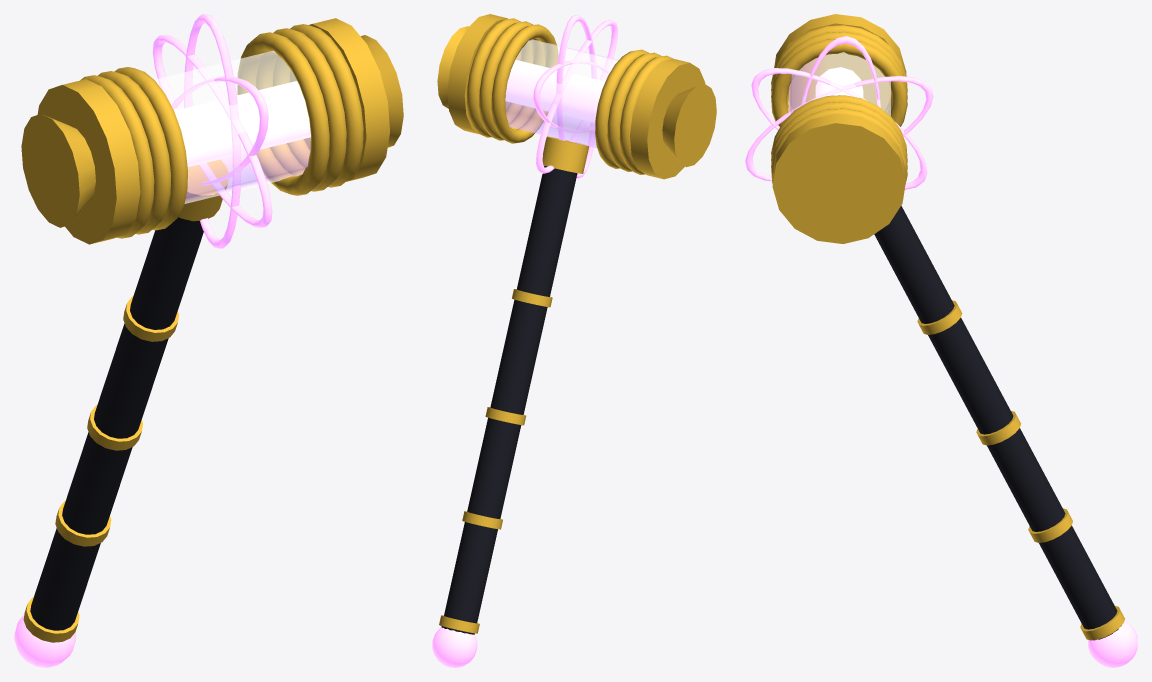
Rendered from hand_eqgw4.glb.
3 views of the same model, side by side, from view 1: azimuth 30°, elevation 25°; view 2: azimuth 150°, elevation 25°; view 3: azimuth 270°, elevation 25° (orthographic). The views are drawn at different scales.
Bounding box in the file's own units: 1.87 × 4.25 × 2.4.
